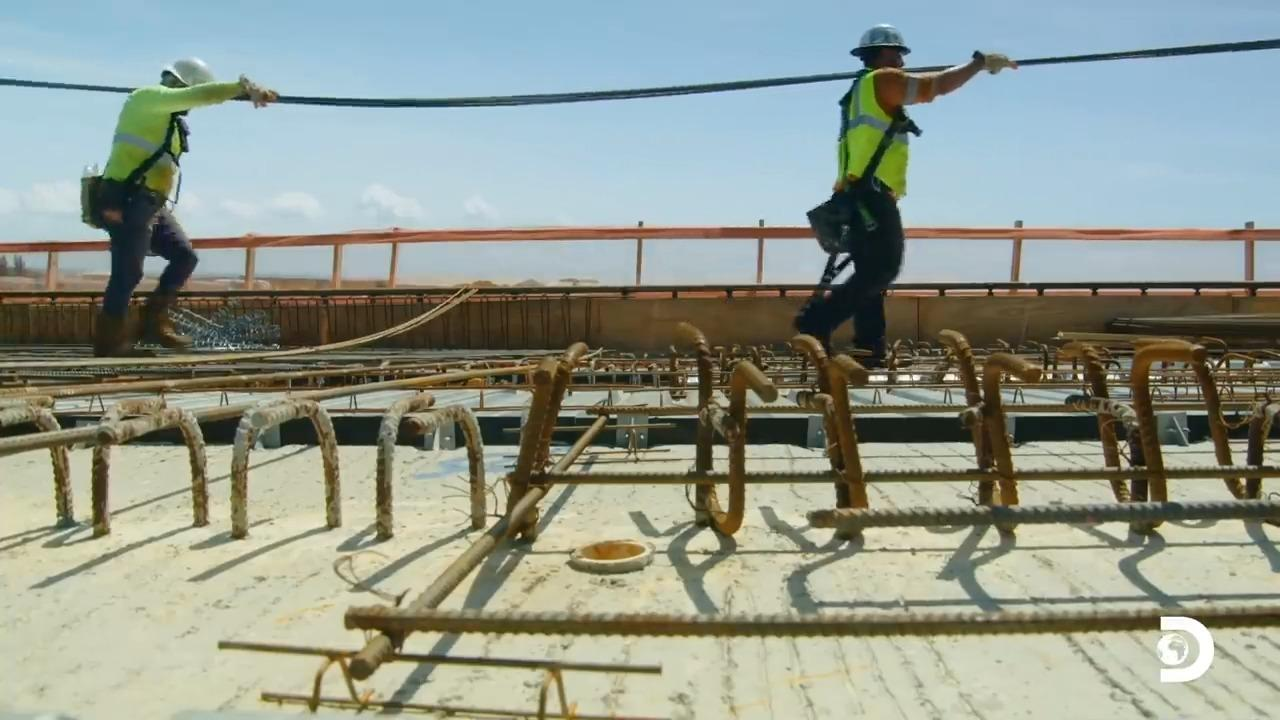Gloves: (242, 75, 277, 109), (975, 46, 1010, 79)
Helmet: (849, 23, 911, 56), (160, 57, 215, 88)
Person: (792, 23, 1018, 368), (91, 56, 279, 357)
Safety Boot: (141, 312, 193, 350), (91, 324, 148, 358)
Safety Vest: (838, 83, 906, 180), (121, 97, 183, 186)
